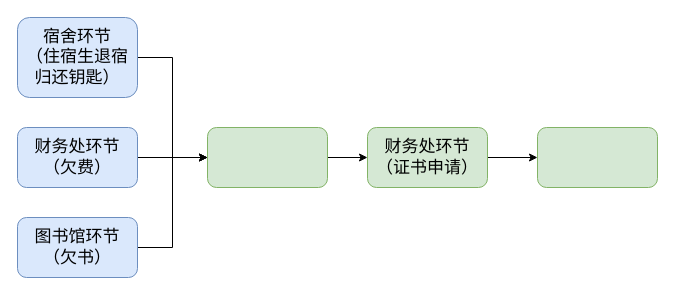
This 675x295 diagram has some shape labels left out. The shapes that lost their labels are listed below. From the top down, each one's centre as x and y in pixels, then its label:
At [267,157]: "教务处环节 （离校申请）".
At [597,157]: "辅导员 （证书领取）".
